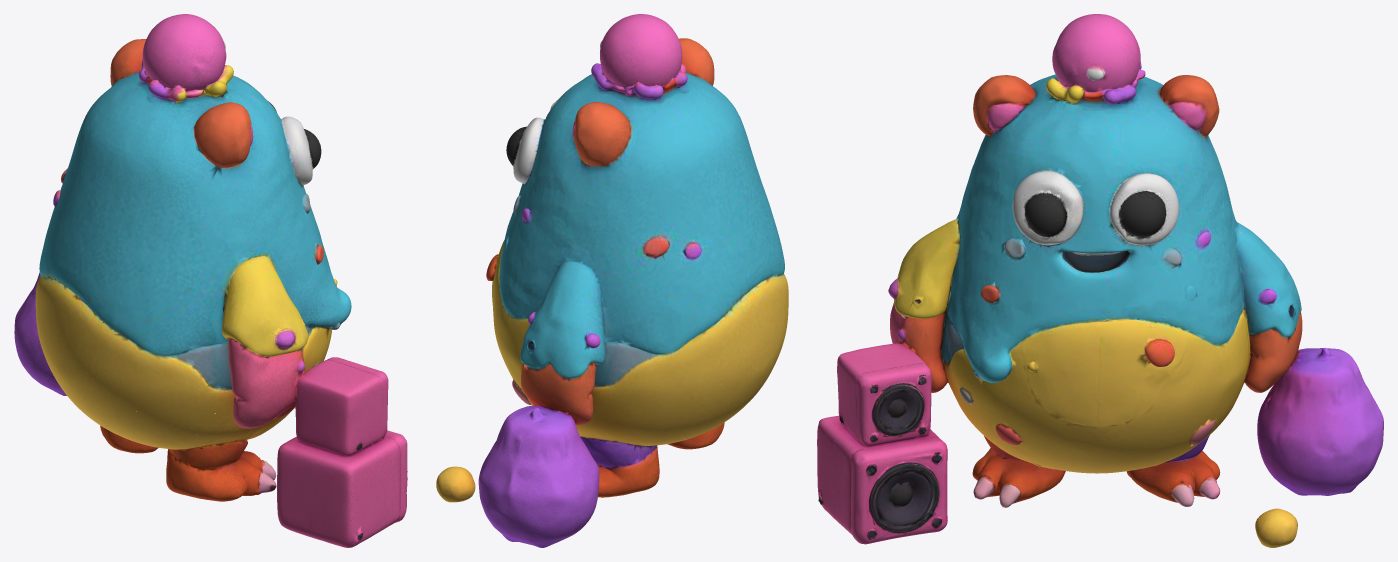
The model's file is env_nest_monster_09.glb.
3 views of the same model, side by side, from view 1: azimuth 30°, elevation 25°; view 2: azimuth 150°, elevation 25°; view 3: azimuth 270°, elevation 25° (orthographic). The views are drawn at different scales.
Parts seen in each view (by area): view 1: tripo_node_31577bb4-6496-4111-915d-50ee8311495e; view 2: tripo_node_31577bb4-6496-4111-915d-50ee8311495e; view 3: tripo_node_31577bb4-6496-4111-915d-50ee8311495e.
Boxes of the visible parts, box(x1,y1,x2,y2) form: tripo_node_31577bb4-6496-4111-915d-50ee8311495e: box(14, 14, 407, 547); tripo_node_31577bb4-6496-4111-915d-50ee8311495e: box(436, 14, 788, 547); tripo_node_31577bb4-6496-4111-915d-50ee8311495e: box(817, 14, 1383, 547).
Bounding box in the file's own units: 0.6582 × 1.1 × 1.19.
Materials: 1 (1 with a texture image).
